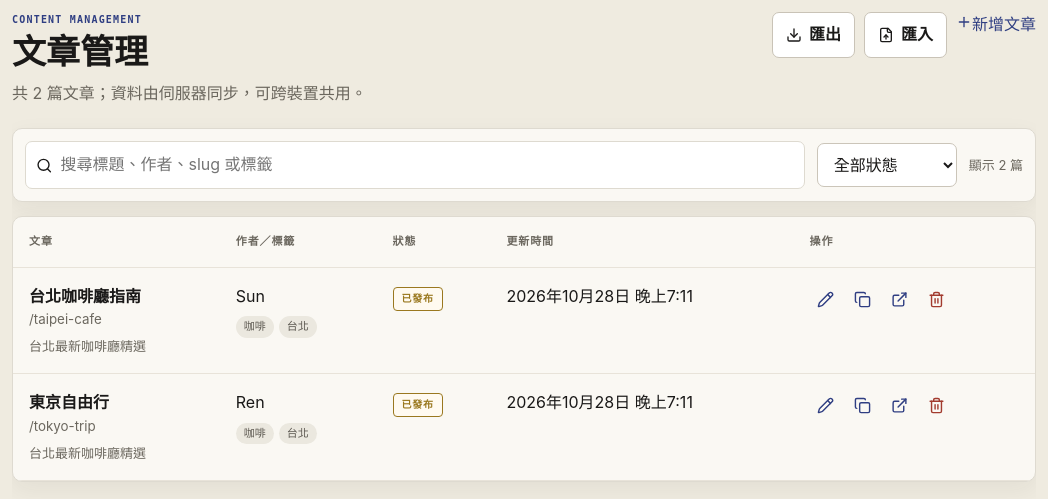
it: ArticleListPage — listing and filtering › filters the list by the search box (matches title, author, slug, and tags)
This screenshot has width=1048, height=499.
Expected: the text "台北咖啡廳指南" is shown, left=29, top=286, right=141, bottom=306
Type "東京" into the field with placeholder "搜尋標題、作者、slug 或標籤" at x=427, y=165, box left=60, top=142, right=794, bottom=188
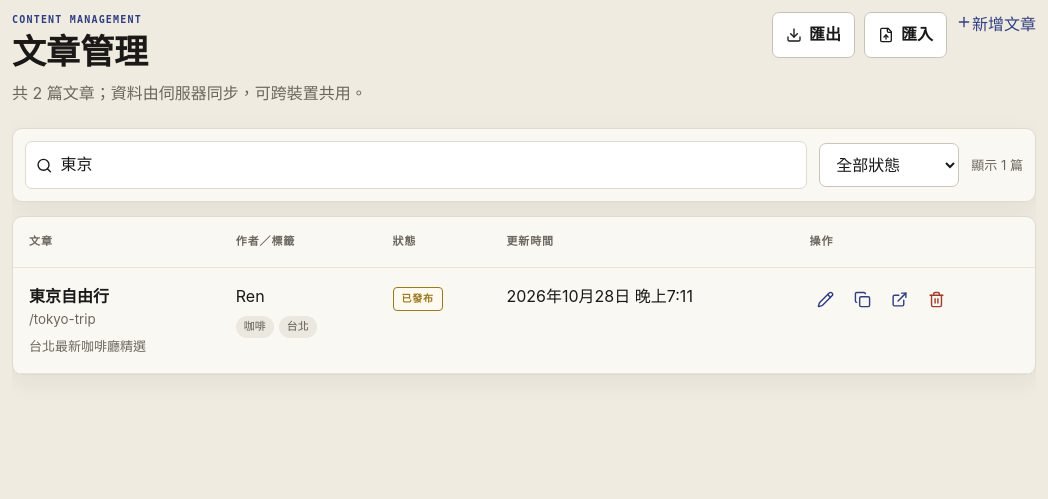
Expected: the text "東京自由行" is shown, left=29, top=286, right=109, bottom=306
Expected: the text "台北咖啡廳指南" is gone
Expected: the text "顯示 1 篇" is shown, left=971, top=155, right=1023, bottom=176
